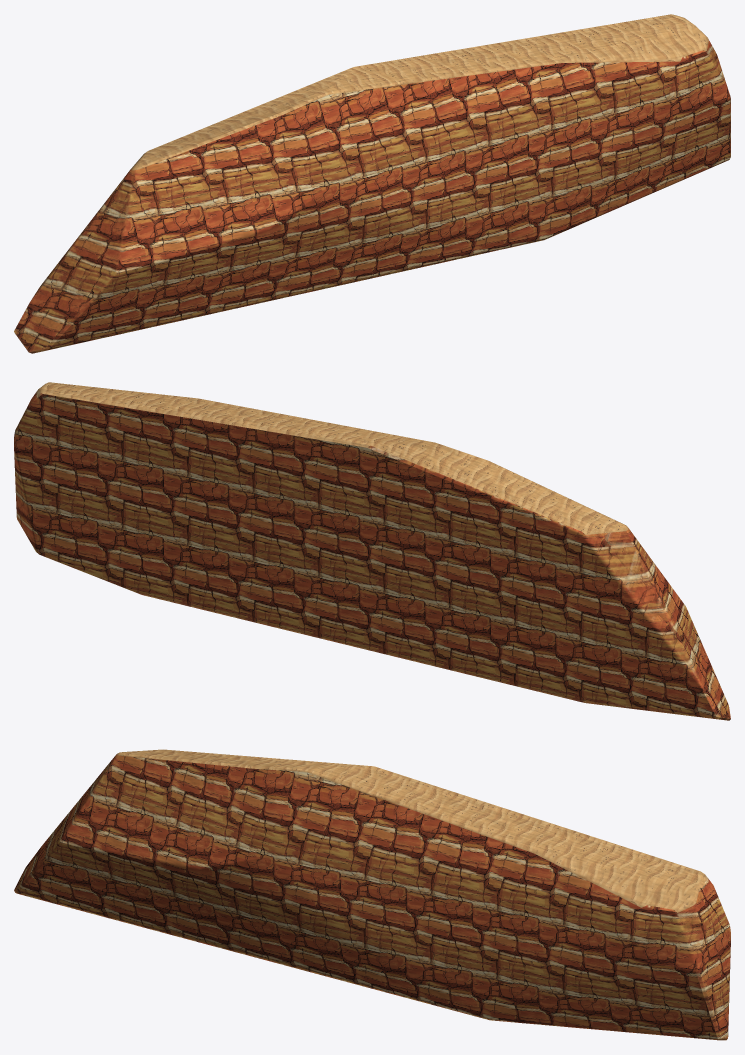
The model's file is v4_cliff_s_01.glb.
3 renders of one model, top to bottom at view 1: azimuth 30°, elevation 25°; view 2: azimuth 150°, elevation 25°; view 3: azimuth 330°, elevation 25°, orthographic. The views are drawn at different scales.
Parts seen in each view (by area): view 1: v4_cliff_s_01; view 2: v4_cliff_s_01; view 3: v4_cliff_s_01.
Boxes of the visible parts, bbox=[...] form: v4_cliff_s_01: bbox=[14, 14, 730, 353]; v4_cliff_s_01: bbox=[14, 382, 730, 720]; v4_cliff_s_01: bbox=[14, 749, 730, 1040].
Size of the model in its own units: 21.93 by 6 by 2.4.
1 material, 1 textured.
